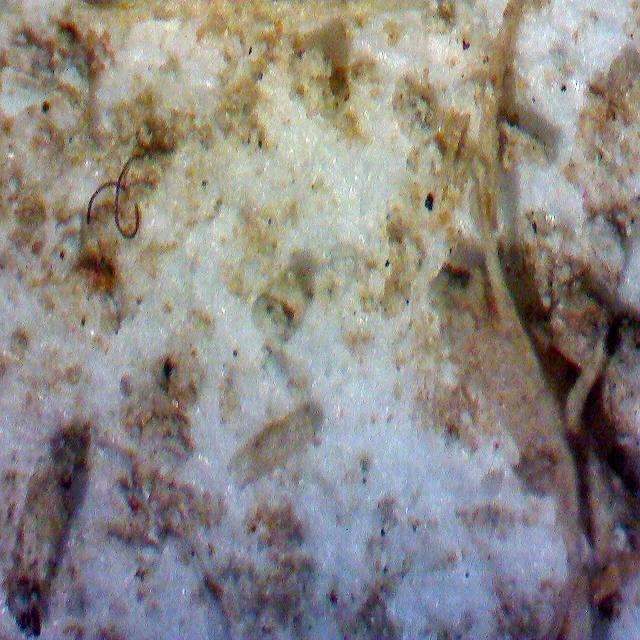microplastic: (81, 140, 159, 242)
